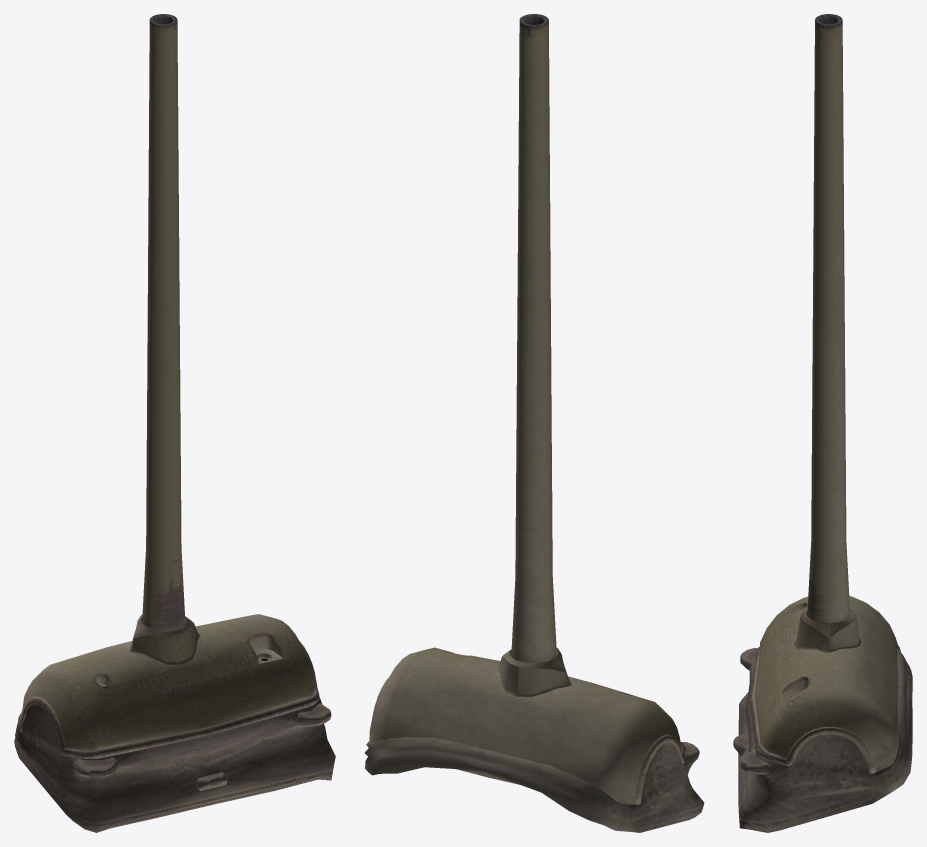
Rendered from Gun_01.glb.
3 renders of one model, left to right at view 1: azimuth 30°, elevation 25°; view 2: azimuth 150°, elevation 25°; view 3: azimuth 270°, elevation 25°, orthographic. The views are drawn at different scales.
Parts seen in each view (by area): view 1: set_0_group_0; view 2: set_0_group_0; view 3: set_0_group_0.
Boxes of the visible parts, box(x1,y1,x2,y2) form: set_0_group_0: box(14, 14, 335, 832); set_0_group_0: box(365, 14, 704, 832); set_0_group_0: box(733, 14, 912, 832).
Bounding box in the file's own units: 1.39 × 3.83 × 0.8318.
Materials: 1 (1 with a texture image).
